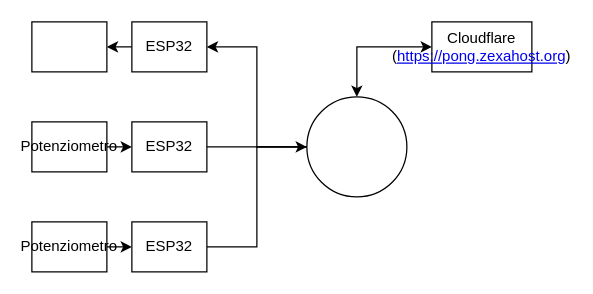
The diagram is 593 pixels wide and 294 high, and some of its shapes have lost their labels. Each missing label, with the box of its shape:
AP (Hotspot, Wi-Fi scuola): (306, 96, 407, 197)
Display: (31, 21, 107, 72)
